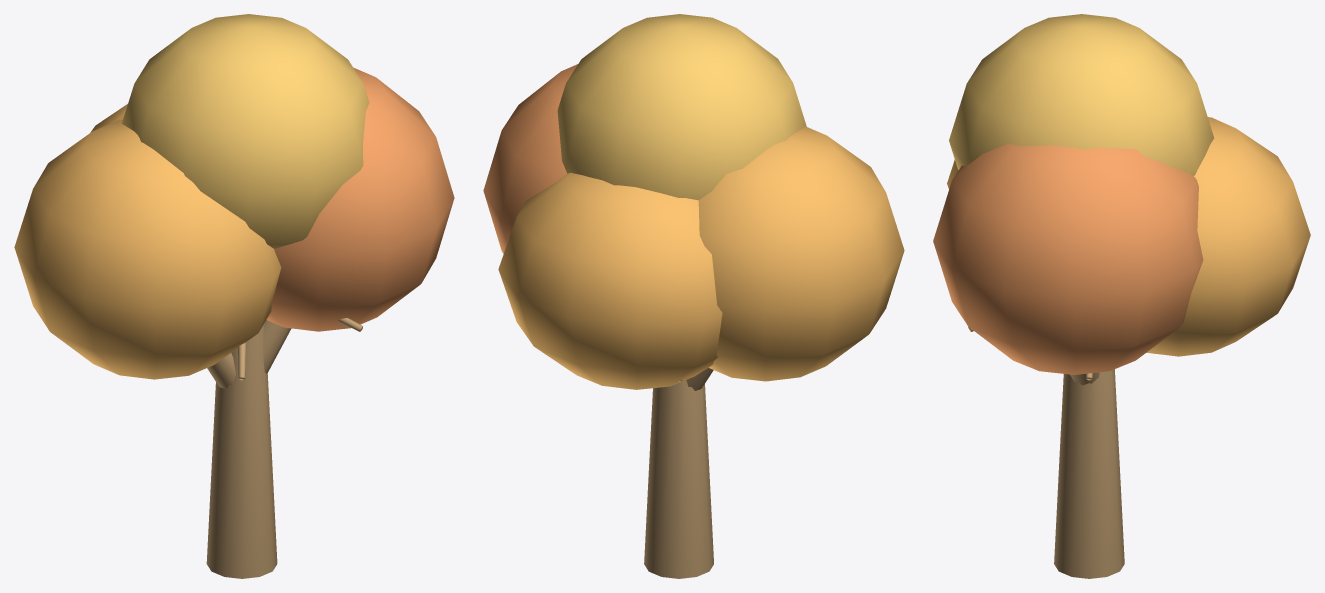
The model's file is tree_harvest_autumn.glb.
3 views of the same model, side by side, from view 1: azimuth 30°, elevation 25°; view 2: azimuth 150°, elevation 25°; view 3: azimuth 270°, elevation 25° (orthographic).
Bounding box in the file's own units: 2.44 × 3.19 × 2.03.
